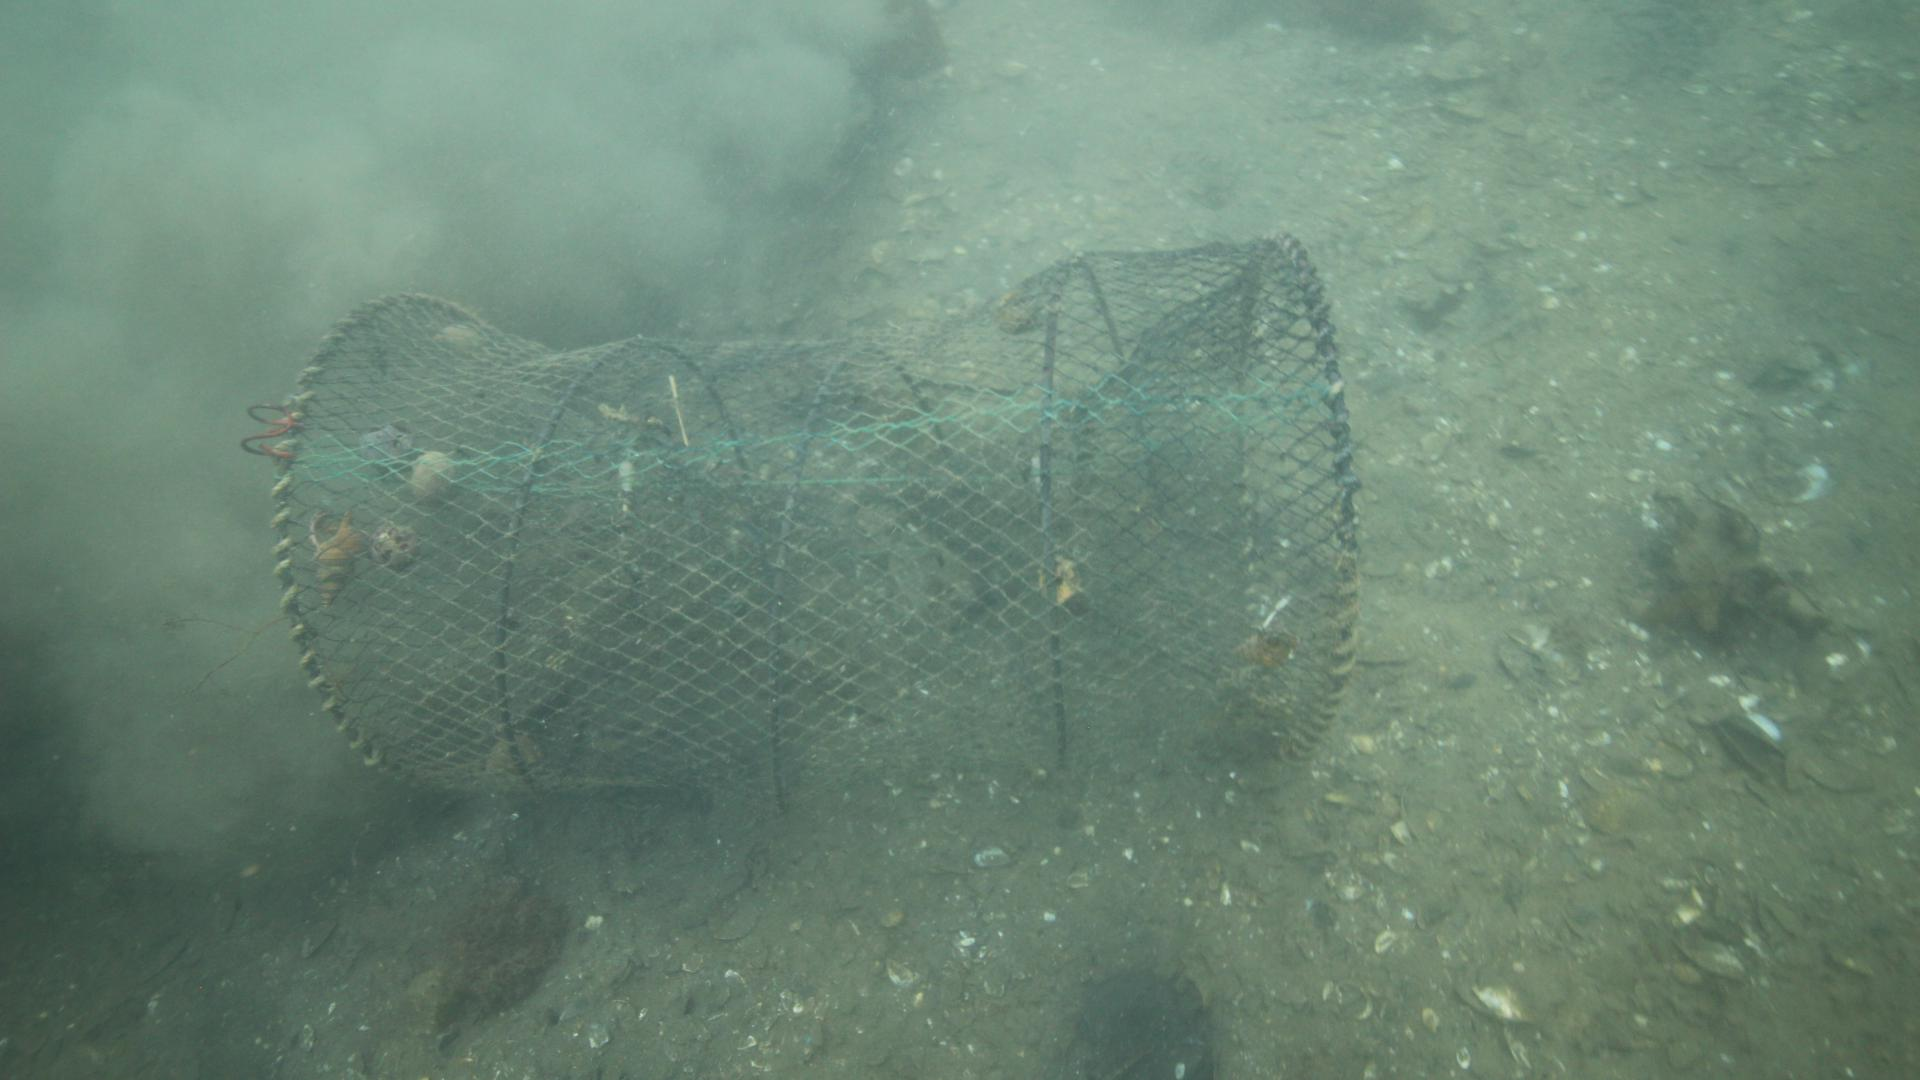spring fish trap: (278, 228, 1356, 798)
